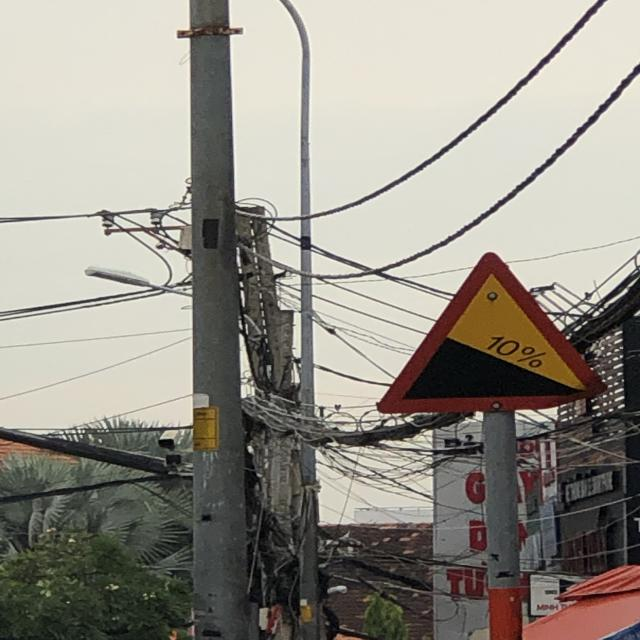Bien bao doc xuong nguy hiem: (374, 250, 618, 416)
